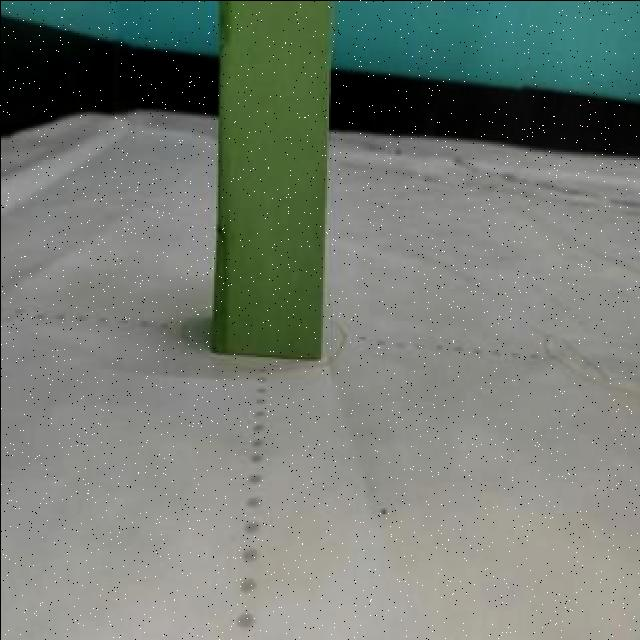greenbox: (209, 0, 336, 362)
